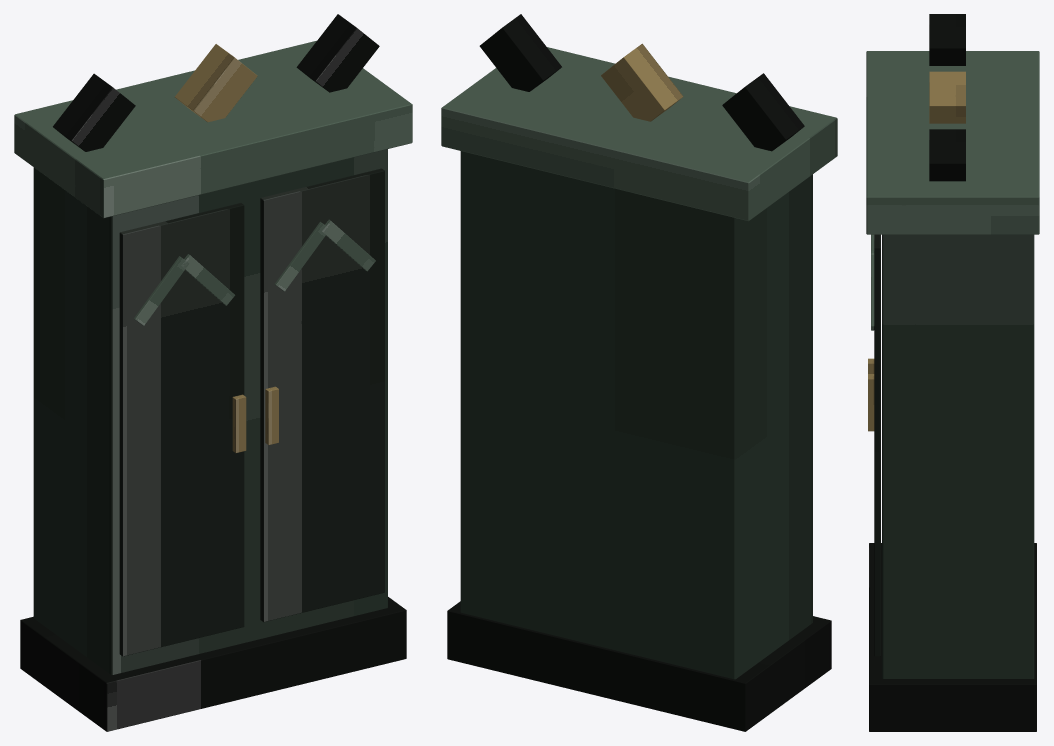
Rendered from gothic_wardrobe_forest.glb.
The picture shows the model from 3 angles, left to right: view 1: azimuth 30°, elevation 25°; view 2: azimuth 150°, elevation 25°; view 3: azimuth 270°, elevation 25°; orthographic projection. The views are drawn at different scales.
Visible parts, largest first — view 1: WardrobeBody, WardrobeDoor_1, WardrobeDoor_2, WardrobeCrown, WardrobePlinth, CrownSpire0.0, CrownSpire-0.52, CrownSpire0.52, WardrobeArch_1Left, WardrobeArch_2Left, WardrobeArch_2Right, WardrobeArch_1Right (+2 smaller); view 2: WardrobeBody, WardrobeCrown, WardrobePlinth, CrownSpire0.0, CrownSpire0.52, CrownSpire-0.52; view 3: WardrobeBody, WardrobeCrown, WardrobePlinth, WardrobeDoor_2, CrownSpire0.0, CrownSpire0.52, CrownSpire-0.52, WardrobeHandle_2, WardrobeArch_2Right.
Boxes of the visible parts, x1,y1,x2,y2 form: WardrobeBody: (33,149,387,674); WardrobeDoor_1: (119,203,244,656); WardrobeDoor_2: (260,168,384,622); WardrobeCrown: (14,40,412,218); WardrobePlinth: (20,597,406,731); CrownSpire0.0: (175,44,257,122); CrownSpire-0.52: (53,73,135,151); CrownSpire0.52: (296,14,379,92); WardrobeArch_1Left: (134,256,189,325); WardrobeArch_2Left: (274,222,326,291); WardrobeArch_2Right: (322,219,375,271); WardrobeArch_1Right: (181,254,235,305); WardrobeBody: (460,151,812,679); WardrobeCrown: (441,47,837,221); WardrobePlinth: (447,601,831,731); CrownSpire0.0: (601,43,683,121); CrownSpire0.52: (479,14,561,91); CrownSpire-0.52: (722,73,804,151); WardrobeBody: (882,234,1034,678); WardrobeCrown: (866,51,1039,234); WardrobePlinth: (869,543,1036,731); WardrobeDoor_2: (874,234,880,656); CrownSpire0.0: (929,71,965,123); CrownSpire0.52: (929,129,965,181); CrownSpire-0.52: (929,14,965,65); WardrobeHandle_2: (868,374,874,431); WardrobeArch_2Right: (871,255,874,330).
Size of the model in its own units: 1.32 by 2.5 by 0.66.
1 material, 1 textured.
